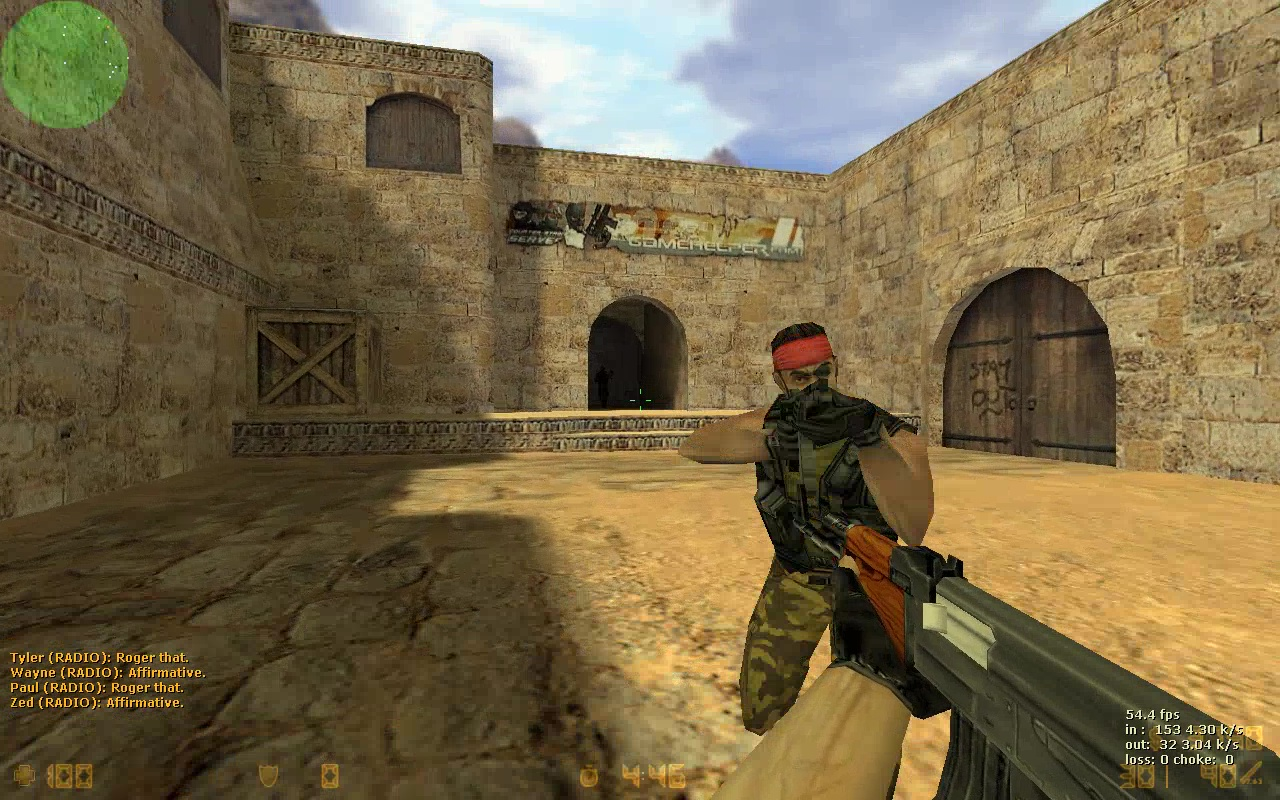terr1: (686, 322, 943, 800)
